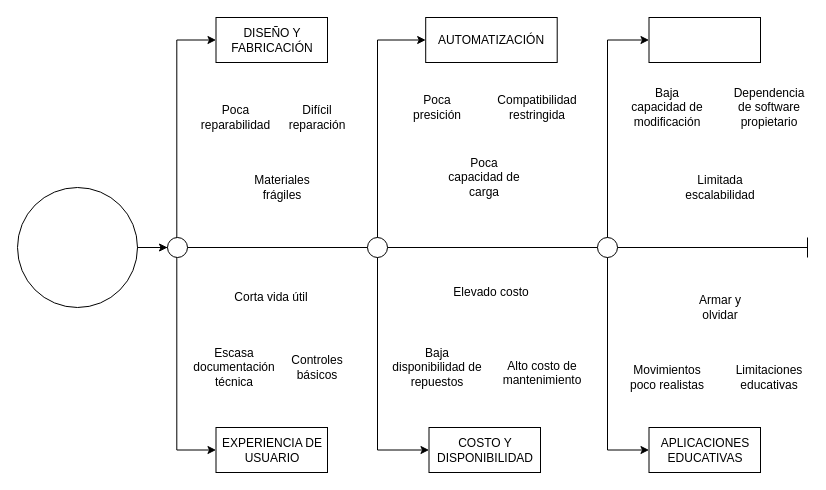
Image size: 826x490. Some labels were removed from this diagram. The shapes that lost their labels are listed below. From the top down, each one's centre as x and y in pixels, then its label:
(704,39): ADAPTABILIDAD
(77,247): Limitaciones en brazos robóticos didácticos
